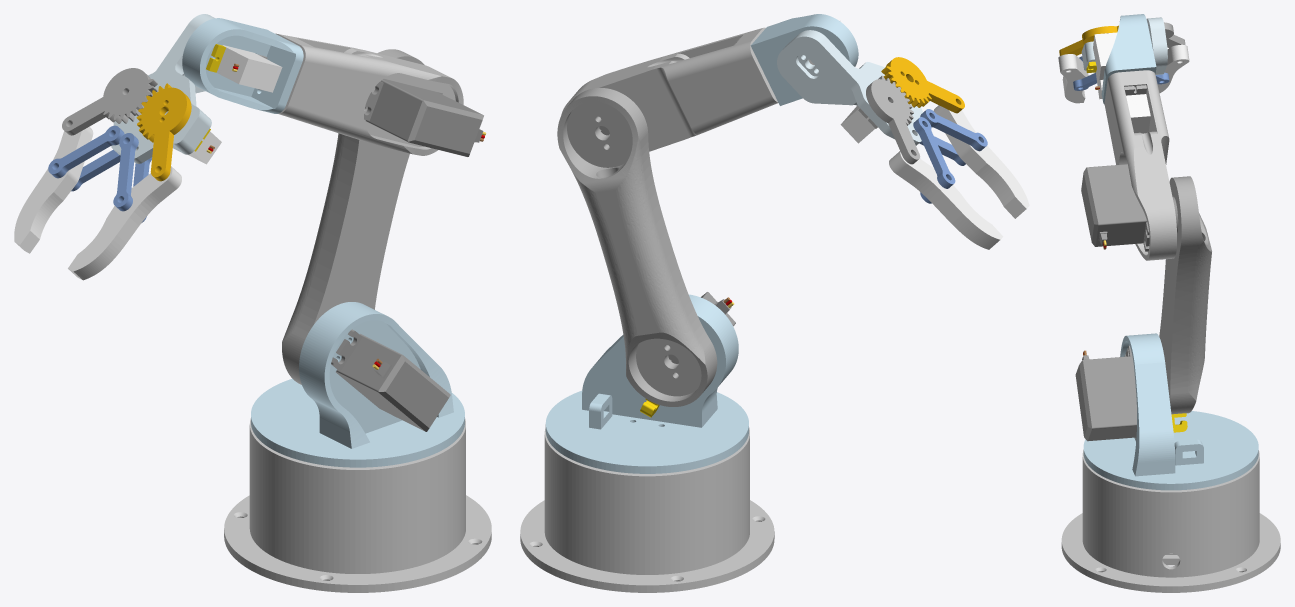
File: thearm.glb
3 renders of one model, left to right at view 1: azimuth 30°, elevation 25°; view 2: azimuth 150°, elevation 25°; view 3: azimuth 270°, elevation 25°, orthographic. The views are drawn at different scales.
Parts seen in each view (by area): view 1: Node3, Node8, Node1, Node6, Node12, Node14, Node11, Node13, Node9; view 2: Node3, Node1, Node8, Node12, Node14, Node11, Node13, Node9; view 3: Node3, Node8, Node6, Node1, Node12, Node9, Node14, Node13, Node11, Node10.
Part boxes in pixels (x1,y1,x2,y2): Node3: (224,33,491,592); Node8: (182,18,464,467); Node1: (62,49,424,384); Node6: (331,79,483,431); Node12: (14,127,181,280); Node14: (111,14,214,163); Node11: (48,125,152,222); Node13: (136,83,191,181); Node9: (188,45,282,164); Node3: (520,27,778,592); Node1: (557,37,920,406); Node8: (545,14,858,473); Node12: (889,105,1029,249); Node14: (777,30,923,145); Node11: (913,109,987,203); Node13: (881,57,964,113); Node9: (808,21,875,143); Node3: (1061,70,1280,592); Node8: (1083,14,1258,490); Node6: (1075,164,1178,441); Node1: (1124,22,1211,414); Node12: (1058,44,1189,103); Node9: (1093,32,1150,133); Node14: (1081,17,1167,74); Node13: (1059,25,1118,55); Node11: (1073,56,1169,90); Node10: (1086,61,1187,432).
Size of the model in its own units: 248 by 284 by 123.
